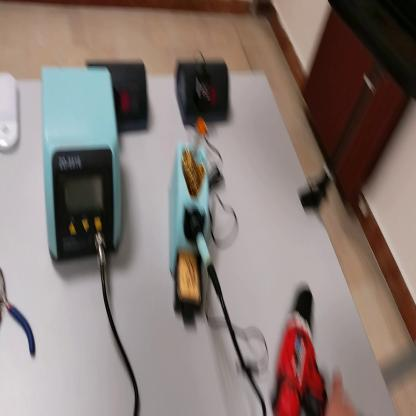electric screwdriver: (269, 270, 381, 416)
hand: (326, 370, 355, 413)
pliers: (1, 269, 37, 358)
socket: (90, 61, 149, 136), (175, 56, 231, 128)
welder base: (166, 149, 212, 329)
welder probe tip: (189, 214, 224, 303)
welder station: (39, 68, 123, 272)
